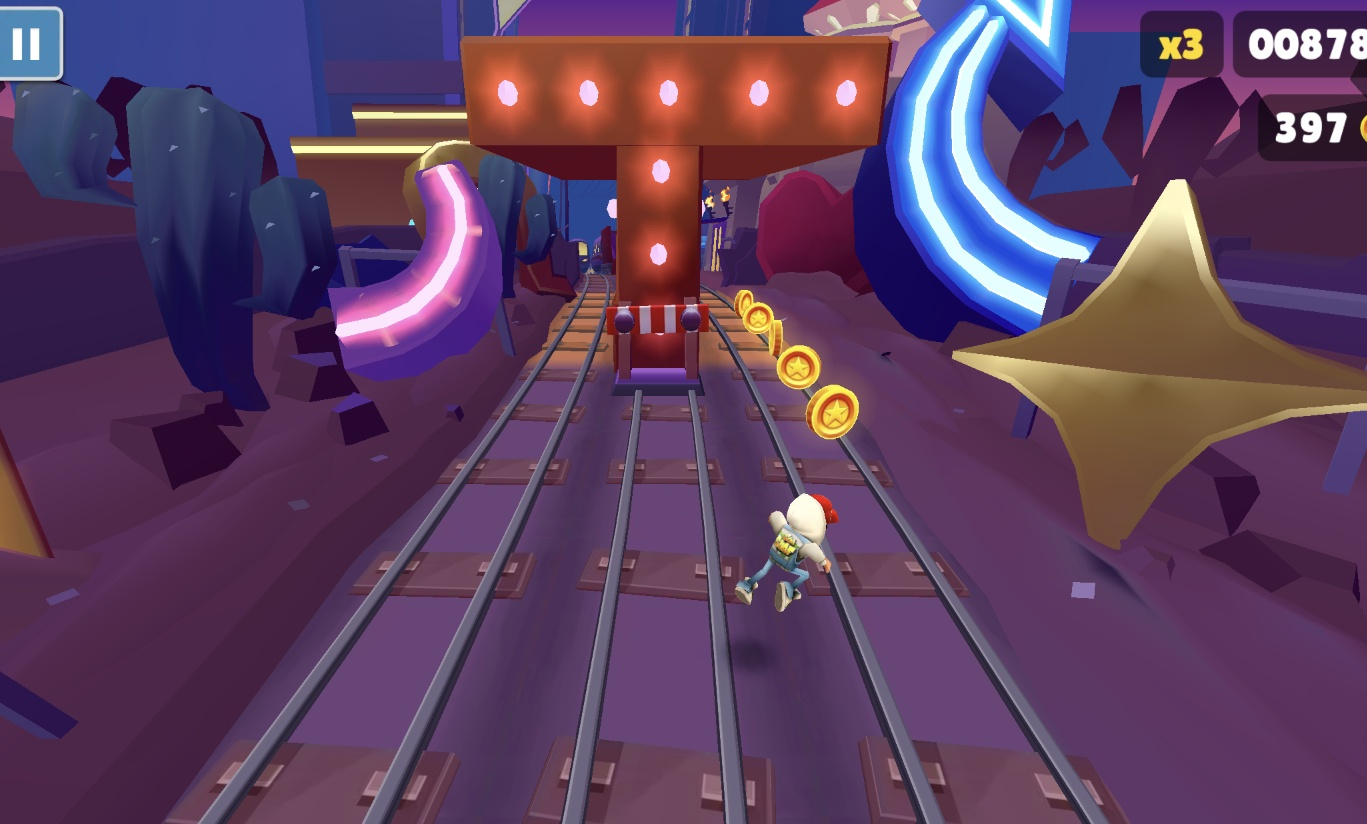ground_barrier: (604, 305, 712, 397)
pillar: (614, 147, 708, 379)
train: (575, 243, 593, 276)
